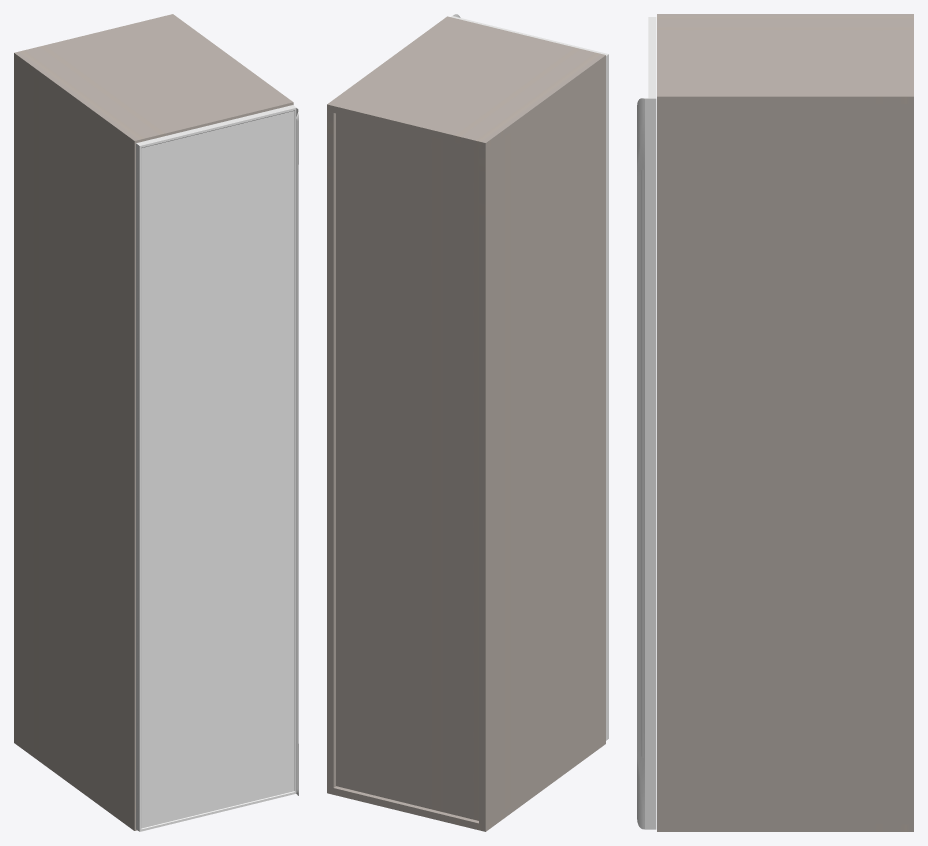
The picture shows the model from 3 angles, left to right: view 1: azimuth 30°, elevation 25°; view 2: azimuth 150°, elevation 25°; view 3: azimuth 270°, elevation 25°; orthographic projection. The views are drawn at different scales.
Parts seen in each view (by area): view 1: Object_1.009, Object_13.002; view 2: Object_13.002, Object_1.009; view 3: Object_13.002, Object_1.009.
Boxes of the visible parts, x1,y1,x2,y2 form: Object_1.009: [136, 105, 298, 831]; Object_13.002: [14, 14, 293, 830]; Object_13.002: [327, 16, 605, 831]; Object_1.009: [451, 14, 608, 740]; Object_13.002: [657, 14, 913, 831]; Object_1.009: [637, 17, 656, 829].
Size of the model in its own units: 0.434 by 1.8 by 0.6139.
Materials: 3 (1 with a texture image).
